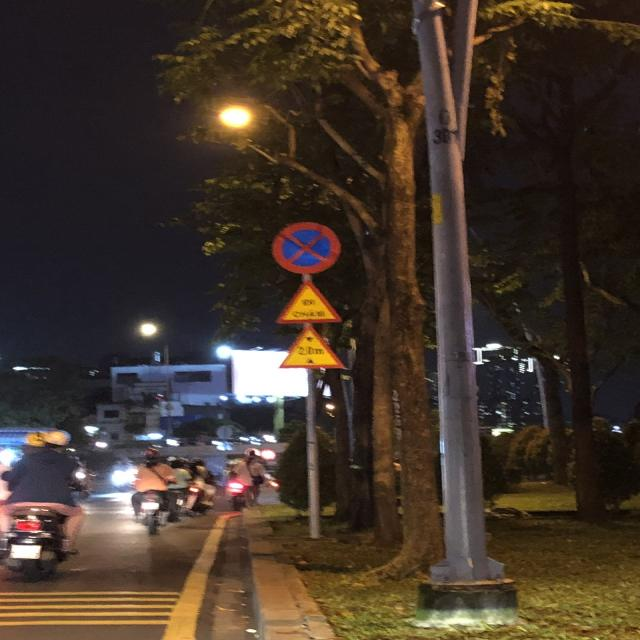Bien bao cam dung xe va do xe: (261, 215, 348, 277)
Bien bao chieu cao tinh khong thuc te: (274, 323, 349, 373)
Bien bao di cham: (265, 277, 347, 326)
